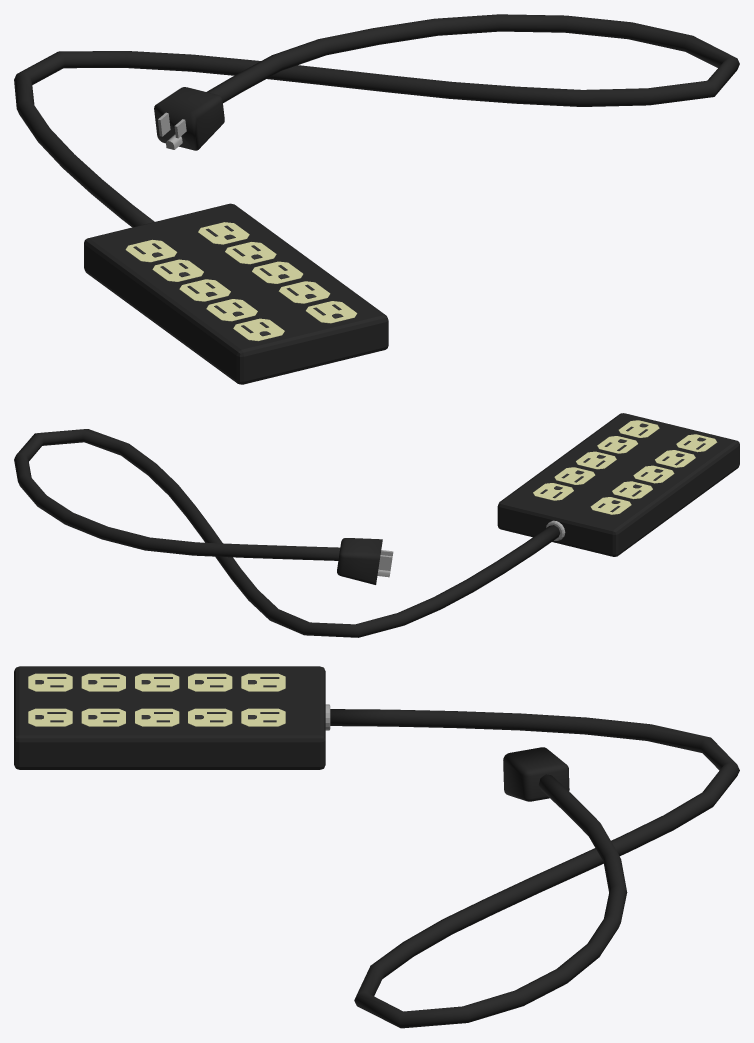
Rendered from powerStrip.fbx.
The picture shows the model from 3 angles, top to bottom: view 1: azimuth 30°, elevation 25°; view 2: azimuth 150°, elevation 25°; view 3: azimuth 270°, elevation 25°; orthographic projection. The views are drawn at different scales.
Visible parts, largest first — view 1: Power Strip; view 2: Power Strip; view 3: Power Strip.
Part boxes in pixels (<box>): Power Strip: <box>14,14,739,384</box>; Power Strip: <box>14,413,739,637</box>; Power Strip: <box>14,666,739,1028</box>.
Bounding box in the file's own units: 3037 × 2774 × 183.
